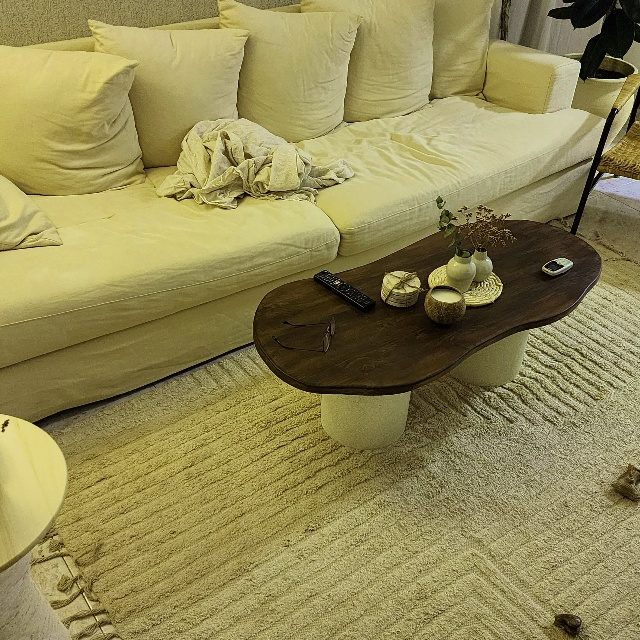glasses: (271, 317, 340, 355)
